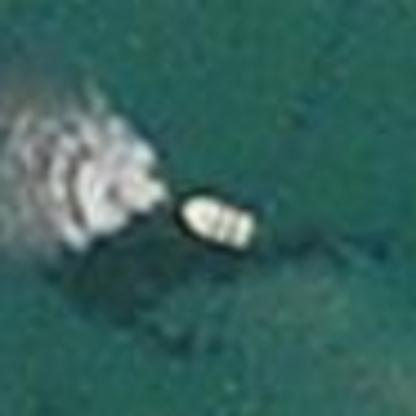ship: (165, 176, 271, 262)
